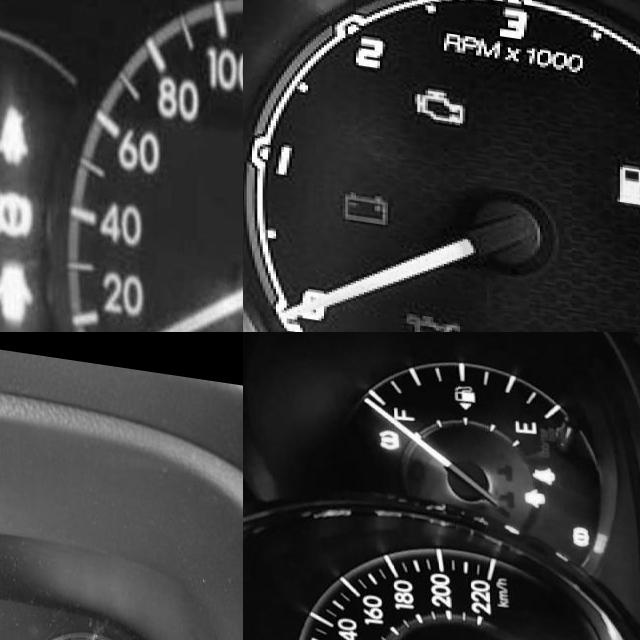Seat Belt: (0, 99, 29, 166), (530, 453, 556, 474)
